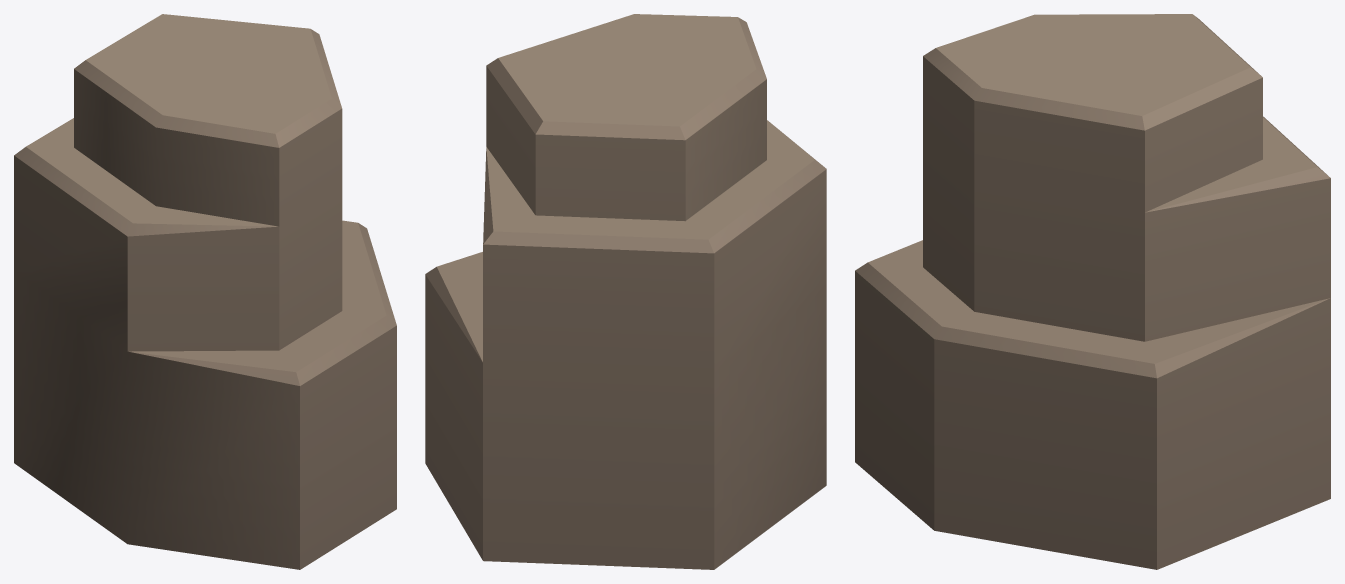
Rendered from Rock_1_D_Color3.fbx.
The picture shows the model from 3 angles, left to right: view 1: azimuth 30°, elevation 25°; view 2: azimuth 150°, elevation 25°; view 3: azimuth 270°, elevation 25°; orthographic projection. The views are drawn at different scales.
Parts seen in each view (by area): view 1: Rock_1_D_Color3; view 2: Rock_1_D_Color3; view 3: Rock_1_D_Color3.
Part boxes in pixels (x1=…): Rock_1_D_Color3: x1=14, y1=14, x2=396, y2=569; Rock_1_D_Color3: x1=425, y1=14, x2=826, y2=569; Rock_1_D_Color3: x1=855, y1=14, x2=1330, y2=569.
Size of the model in its own units: 0.9271 by 1.13 by 1.16.
